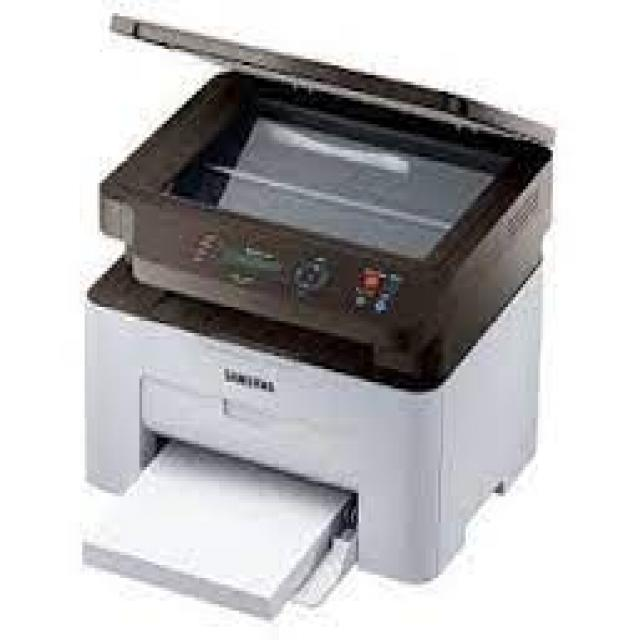printer: (54, 5, 565, 626)
